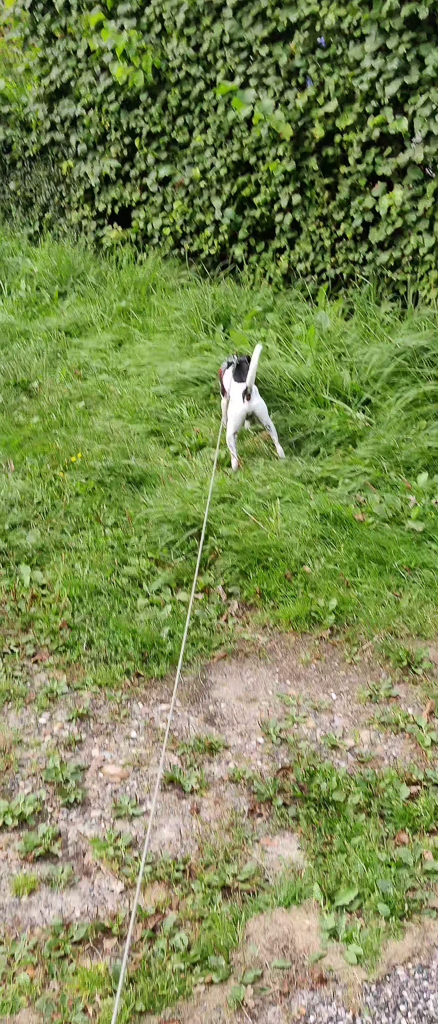Dog: (204, 337, 298, 484)
